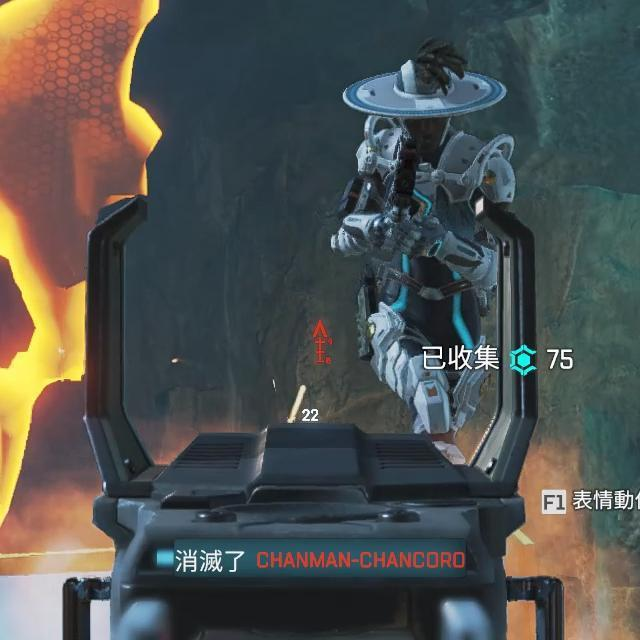avatar: (326, 66, 517, 440)
